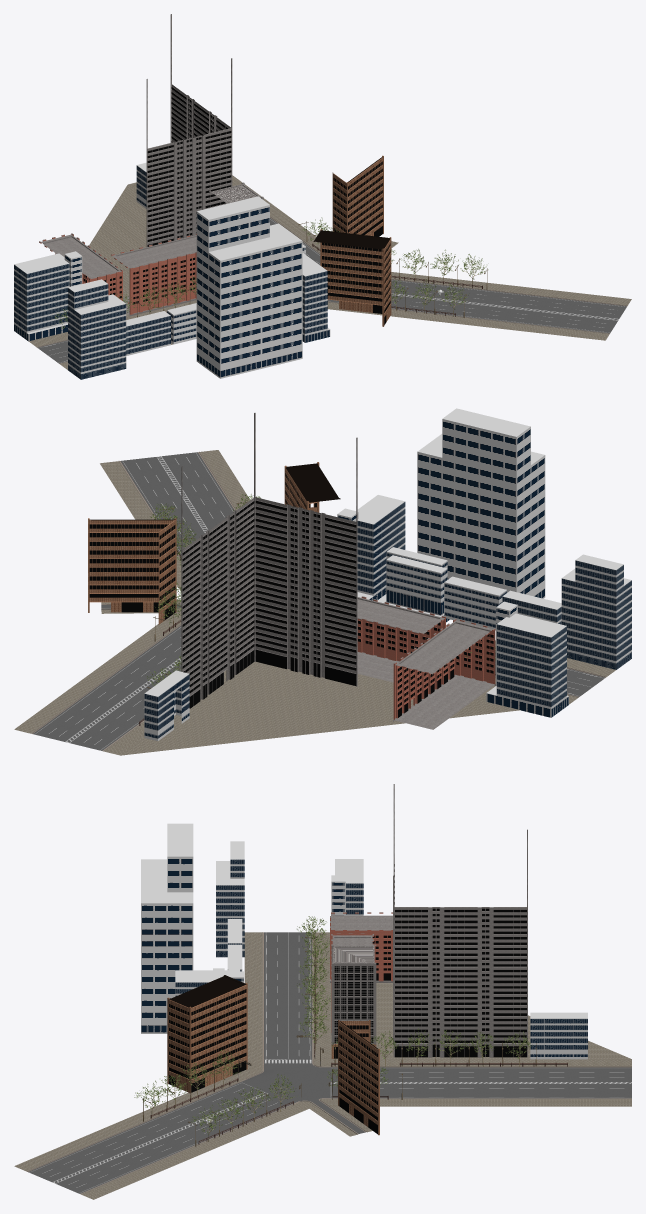
The model's file is chase.fbx.
3 renders of one model, top to bottom at view 1: azimuth 30°, elevation 25°; view 2: azimuth 150°, elevation 25°; view 3: azimuth 270°, elevation 25°, orthographic. The views are drawn at different scales.
Parts seen in each view (by area): view 1: BF2.008, upper1, sidewalk, road, Save OBJ.004; view 2: upper1, BF2.008, sidewalk, road, Save OBJ.004; view 3: upper1, road, BF2.008, sidewalk, Save OBJ.004, 円柱.005, Cube.001.
Boxes of the visible parts, x1,y1,x2,y2 form: BF2.008: (14, 162, 330, 379); upper1: (39, 14, 391, 326); sidewalk: (29, 175, 631, 369); road: (36, 216, 627, 363); Save OBJ.004: (54, 217, 488, 328); upper1: (88, 413, 495, 729); BF2.008: (144, 408, 631, 740); sidewalk: (14, 450, 615, 755); road: (31, 451, 606, 751); Save OBJ.004: (147, 494, 495, 685); upper1: (167, 784, 527, 1135); road: (27, 932, 631, 1194); BF2.008: (141, 823, 587, 1059); sidewalk: (14, 932, 631, 1199); Save OBJ.004: (134, 916, 532, 1141); 円柱.005: (150, 960, 567, 1144); Cube.001: (142, 936, 536, 1146).
Size of the model in its own units: 21051 by 8445 by 20547.
